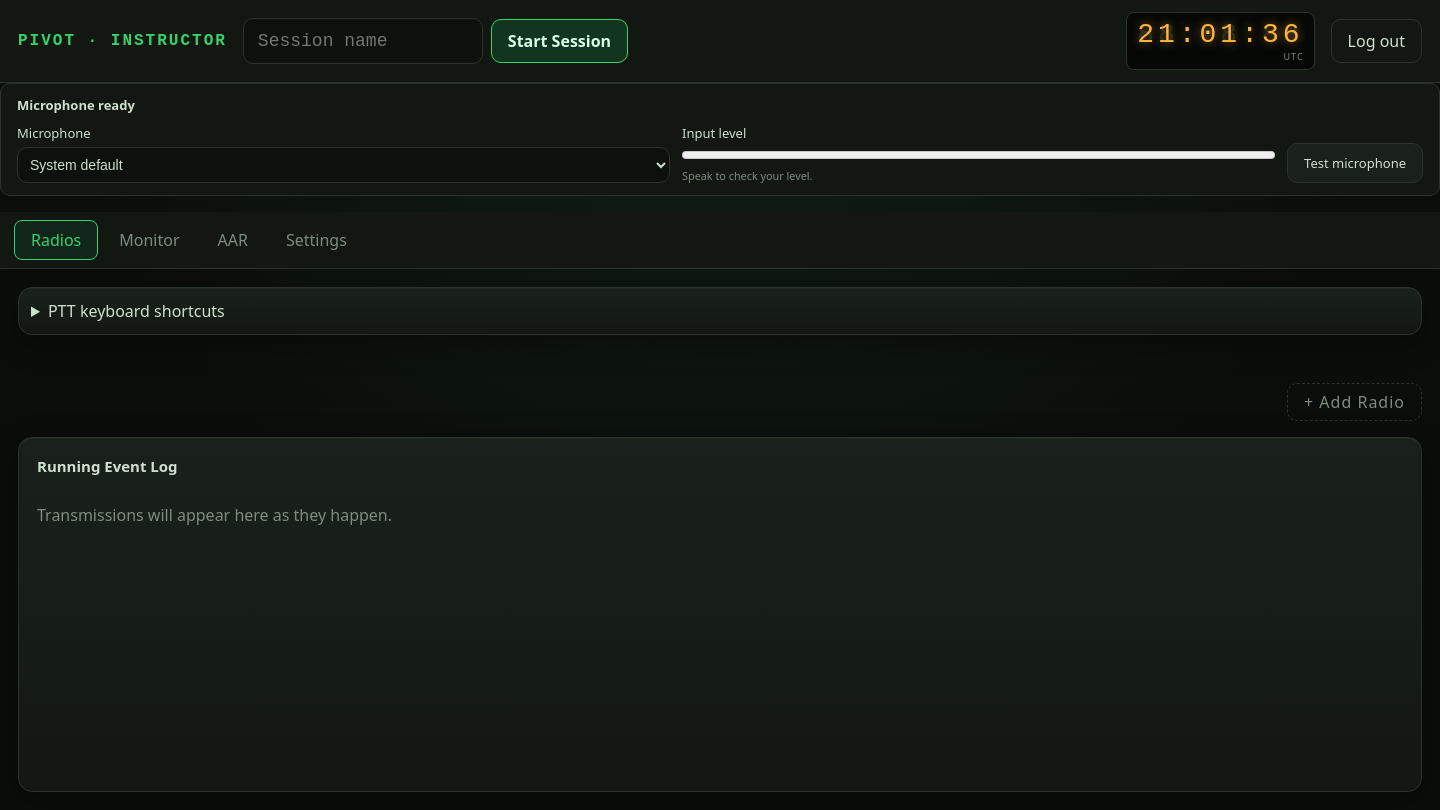
InstructorConsole › can switch between tabs
Click the tab "Monitor": (149, 240) [102,220,197,260]
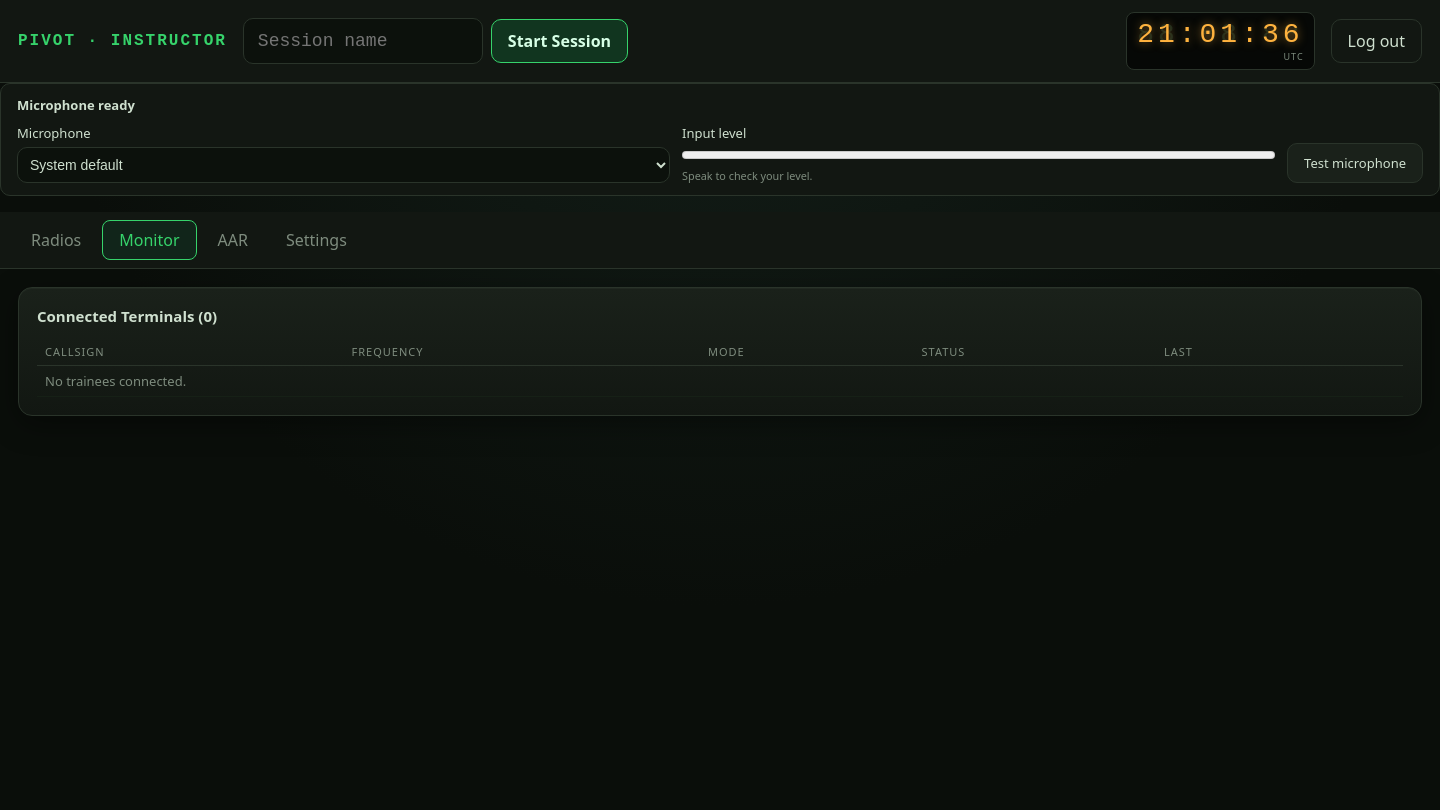
Expected: the heading "Connected Terminals (0)" is shown, [37,306,217,326]
Click the tab "Settings": (316, 240) [269,220,364,260]
(page scrolled)
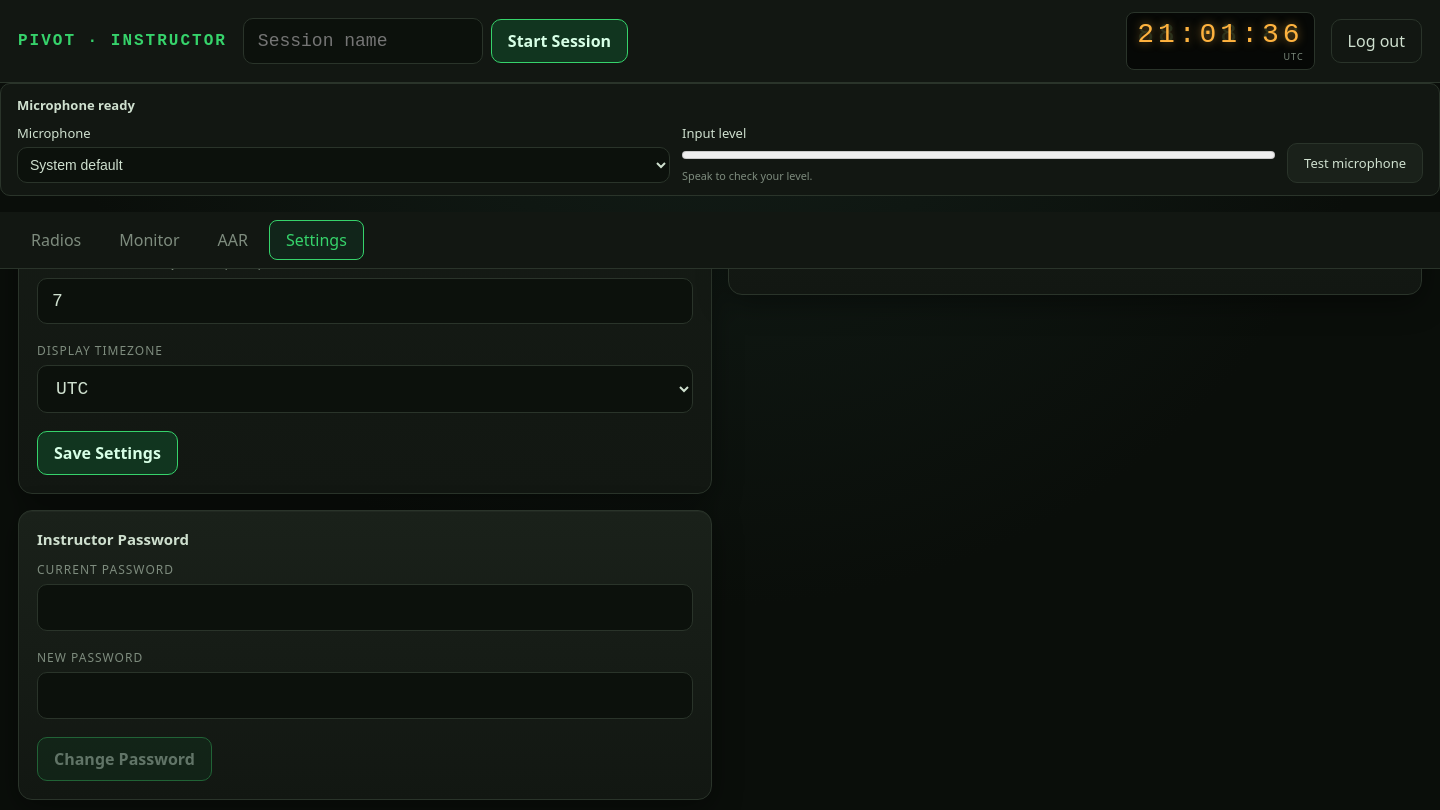
Expected: the heading "Instructor Password" is shown, [37,529,189,549]
